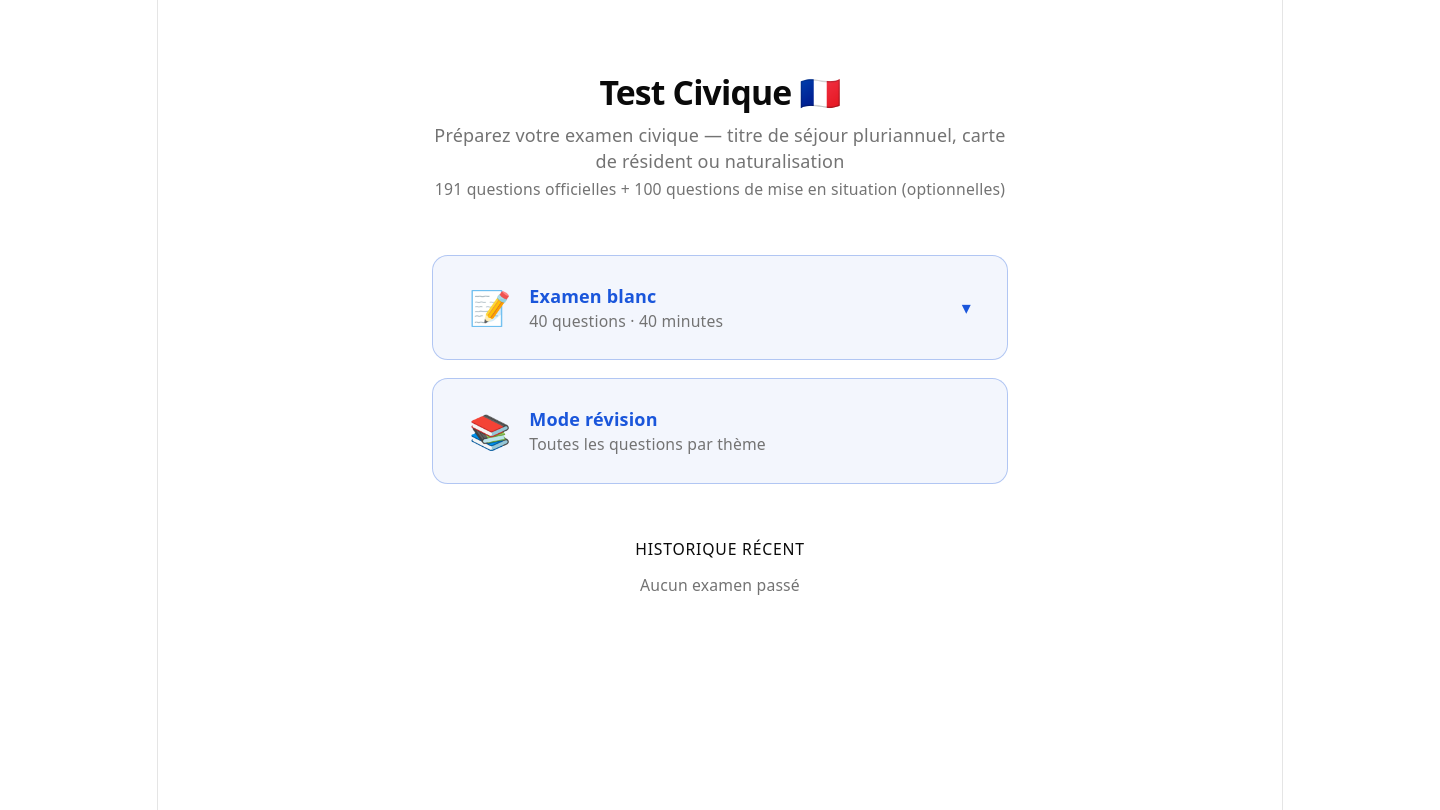
Test: Examen blanc — expansion › cliquer sur la card révèle les deux sous-options
Click the button with aria-label "Démarrer un examen blanc" at (720, 307), box [432, 255, 1008, 360]
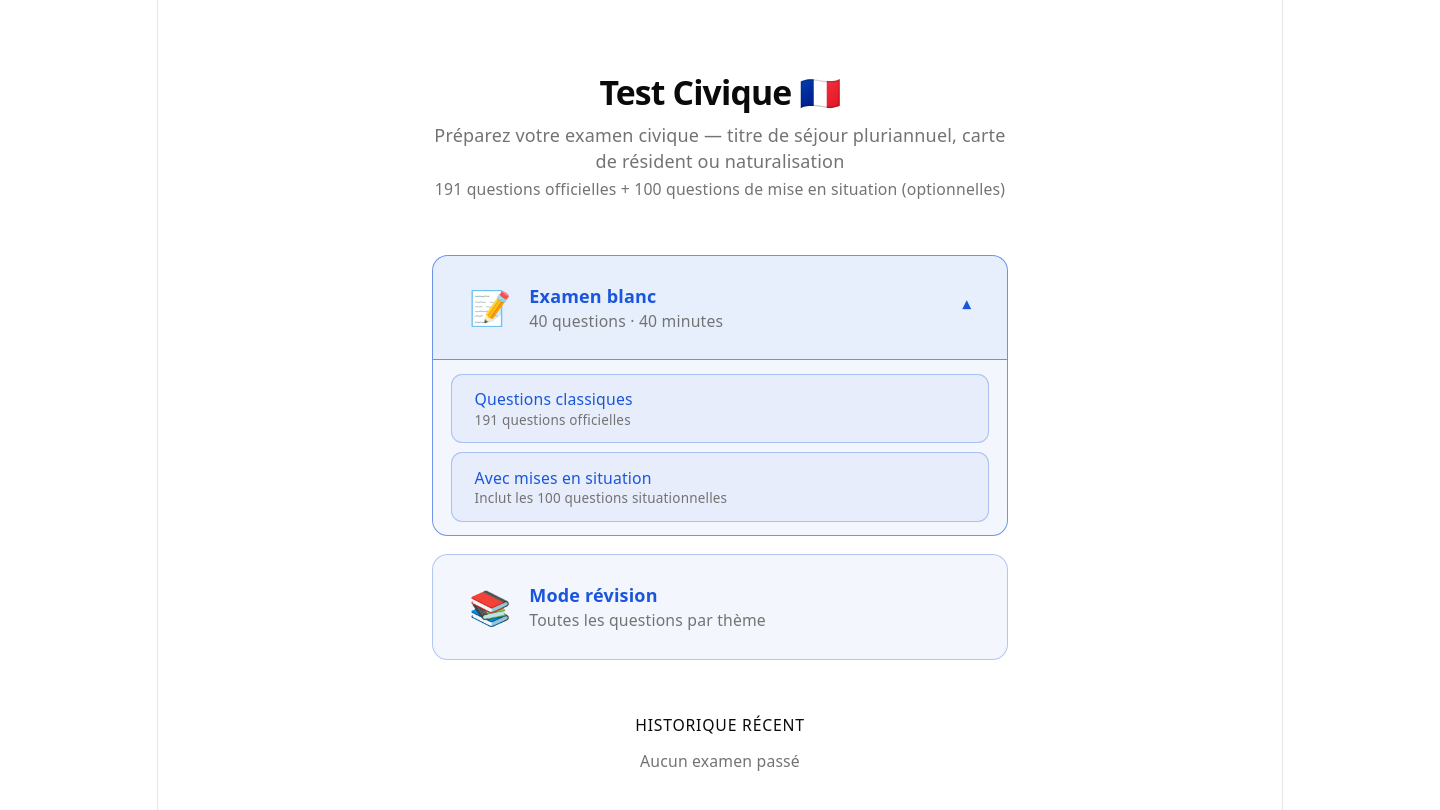
Expected: the button "Questions classiques 191 questions officielles" is shown, [451, 374, 989, 443]
Expected: the button with aria-label "Démarrer un examen blanc" is expanded, [432, 255, 1008, 360]
